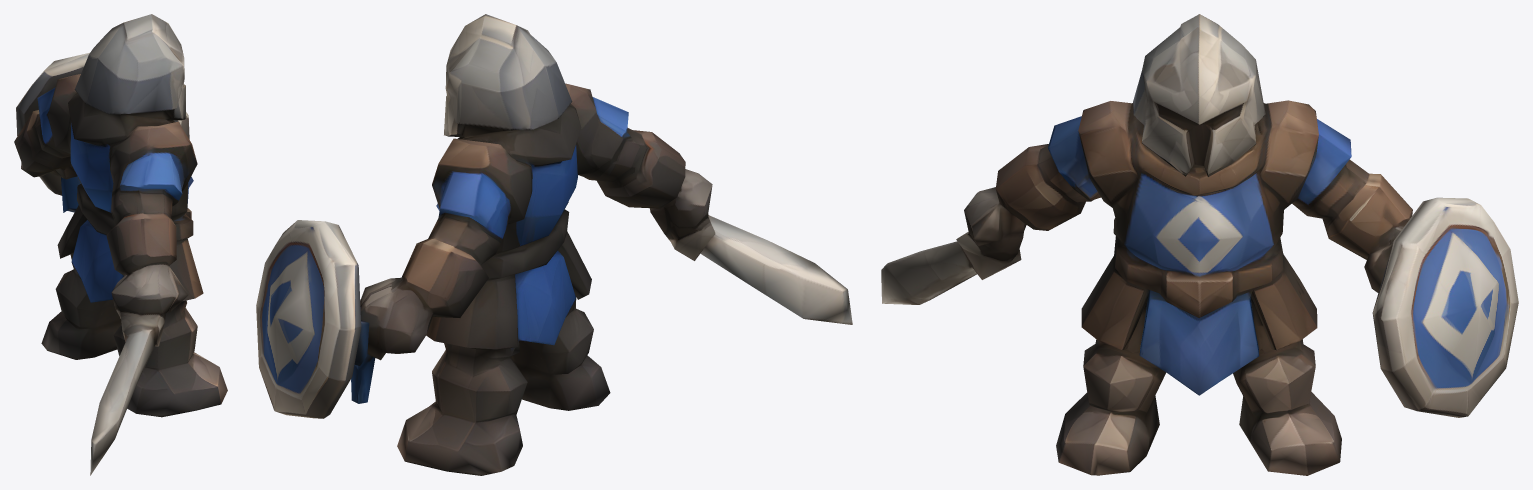
File: creep_melee_fixed.glb
The picture shows the model from 3 angles, left to right: view 1: azimuth 30°, elevation 25°; view 2: azimuth 150°, elevation 25°; view 3: azimuth 270°, elevation 25°; orthographic projection. The views are drawn at different scales.
Visible parts, largest first — view 1: tripo_node_dffbff48-7b9c-482d-a603-1f0a3ad06065; view 2: tripo_node_dffbff48-7b9c-482d-a603-1f0a3ad06065; view 3: tripo_node_dffbff48-7b9c-482d-a603-1f0a3ad06065.
Part boxes in pixels (box(x1,y1,x2,y2)): tripo_node_dffbff48-7b9c-482d-a603-1f0a3ad06065: box(14, 14, 227, 475); tripo_node_dffbff48-7b9c-482d-a603-1f0a3ad06065: box(256, 14, 852, 475); tripo_node_dffbff48-7b9c-482d-a603-1f0a3ad06065: box(881, 14, 1518, 475).
Bounding box in the file's own units: 0.6825 × 0.745 × 1.
Materials: 1 (1 with a texture image).
